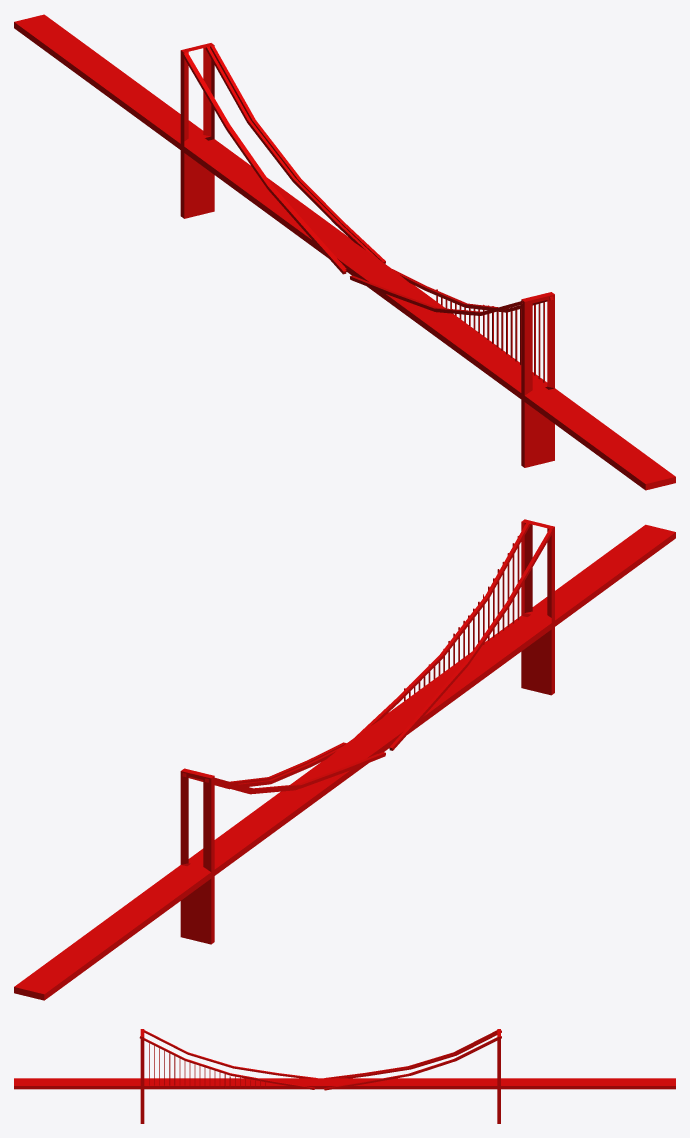
Rendered from bridge.glb.
The picture shows the model from 3 angles, top to bottom: view 1: azimuth 30°, elevation 25°; view 2: azimuth 150°, elevation 25°; view 3: azimuth 270°, elevation 25°; orthographic projection. The views are drawn at different scales.
Visible parts, largest first — view 1: Cube.001, Cube; view 2: Cube.001, Cube; view 3: Cube.001, Cube.
Part boxes in pixels (left/top/right/bottom): Cube.001: left=14, top=14, right=675, bottom=490; Cube: left=436, top=289, right=544, bottom=382; Cube.001: left=14, top=519, right=675, bottom=1000; Cube: left=404, top=536, right=519, bottom=700; Cube.001: left=14, top=1029, right=675, bottom=1123; Cube: left=149, top=1041, right=265, bottom=1088.
Size of the model in its own units: 14.09 by 52.53 by 362.
